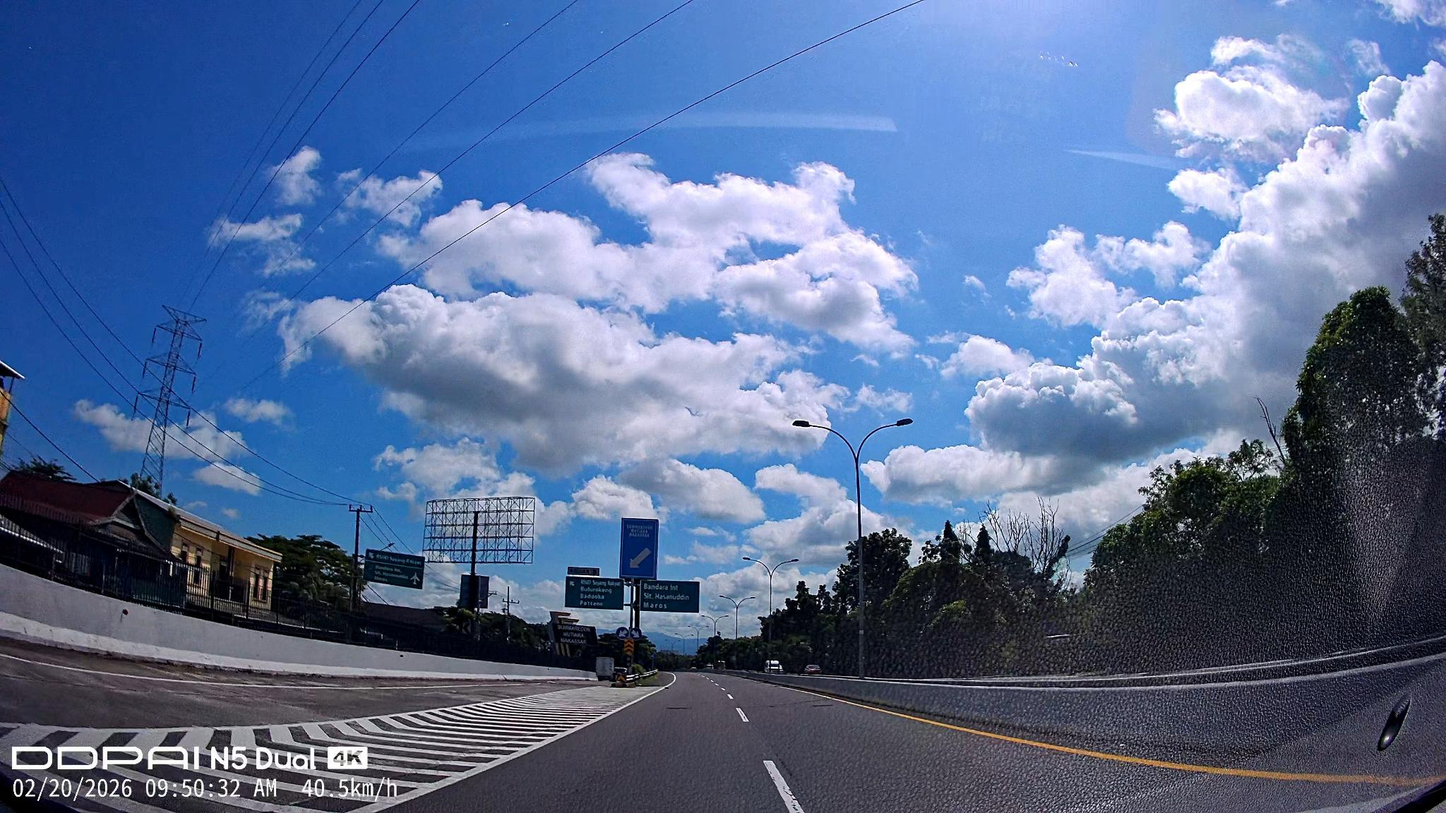rambu_teks: (638, 579, 701, 614), (564, 575, 625, 611)
